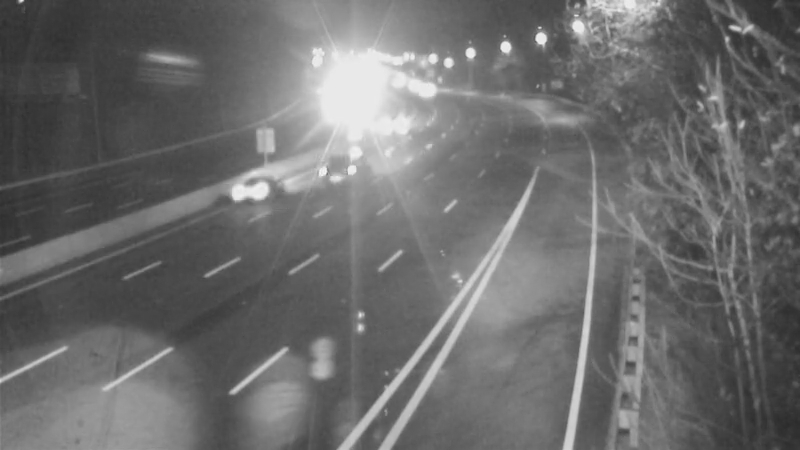vehicle: (298, 132, 378, 212), (209, 155, 289, 235), (399, 64, 449, 114), (379, 97, 429, 147)
